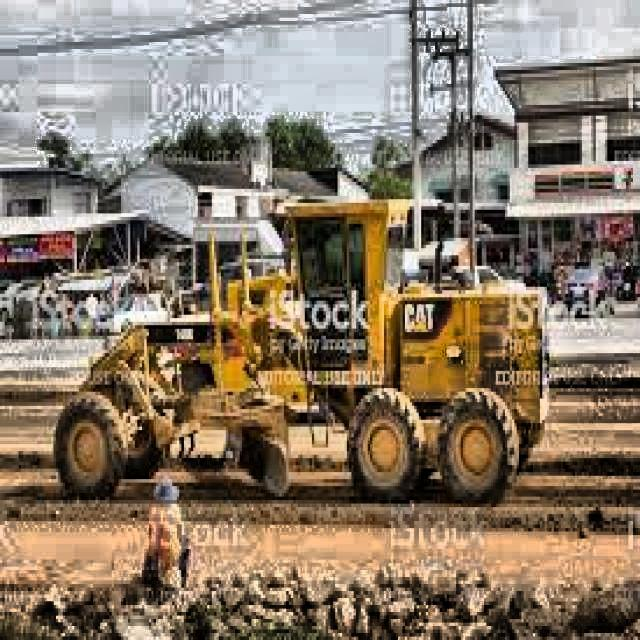bull_dozer/loader/grader: (54, 189, 551, 504)
person: (143, 472, 190, 596)
